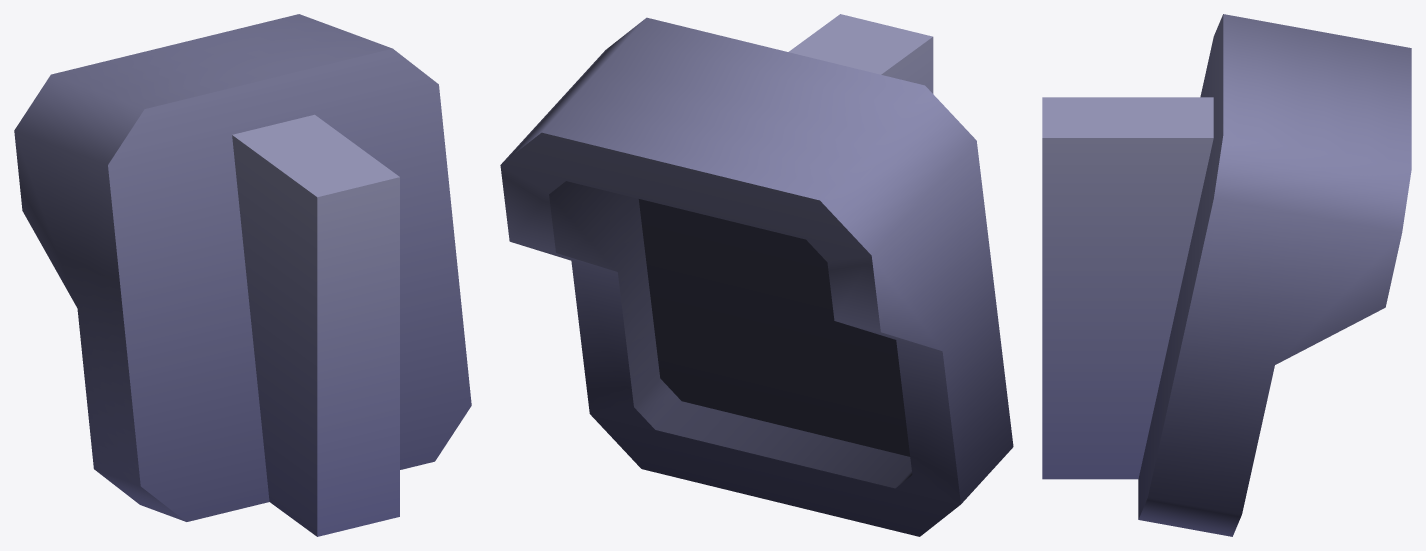
Rendered from kenney-factory-screen-hanging-small.glb.
3 renders of one model, left to right at view 1: azimuth 30°, elevation 25°; view 2: azimuth 150°, elevation 25°; view 3: azimuth 270°, elevation 25°, orthographic. The views are drawn at different scales.
Parts seen in each view (by area): view 1: screen-hanging-small; view 2: screen-hanging-small; view 3: screen-hanging-small.
Part boxes in pixels (x1=…): screen-hanging-small: x1=14, y1=14, x2=471, y2=536; screen-hanging-small: x1=500, y1=14, x2=1013, y2=536; screen-hanging-small: x1=1042, y1=14, x2=1411, y2=536.
Bounding box in the file's own units: 0.9 × 1.04 × 0.8648.
Materials: 1 (1 with a texture image).
